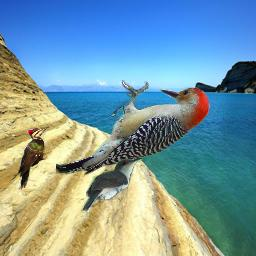Cuckoo: (81, 157, 143, 213)
Woodpecker: (56, 80, 212, 177), (17, 125, 51, 190)
